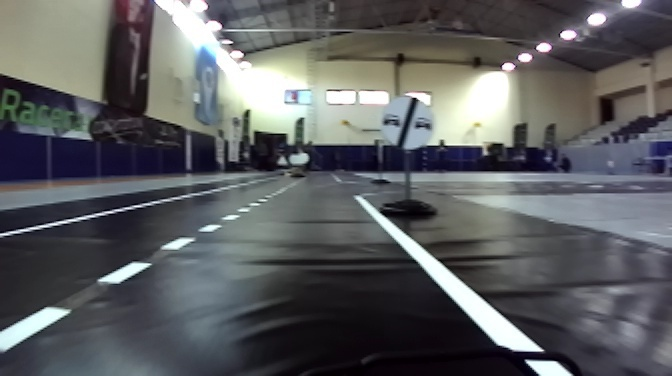sollama_serbest: (378, 96, 432, 150)
